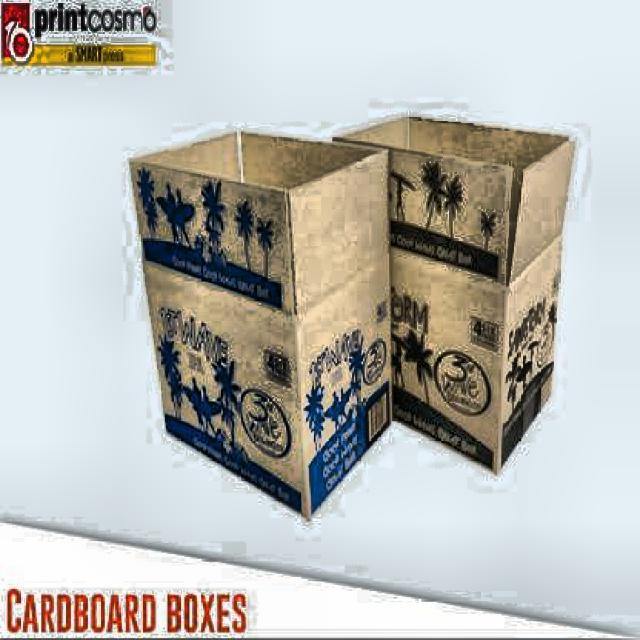Cardbox: (110, 113, 392, 504), (384, 127, 560, 473), (0, 0, 155, 66)
